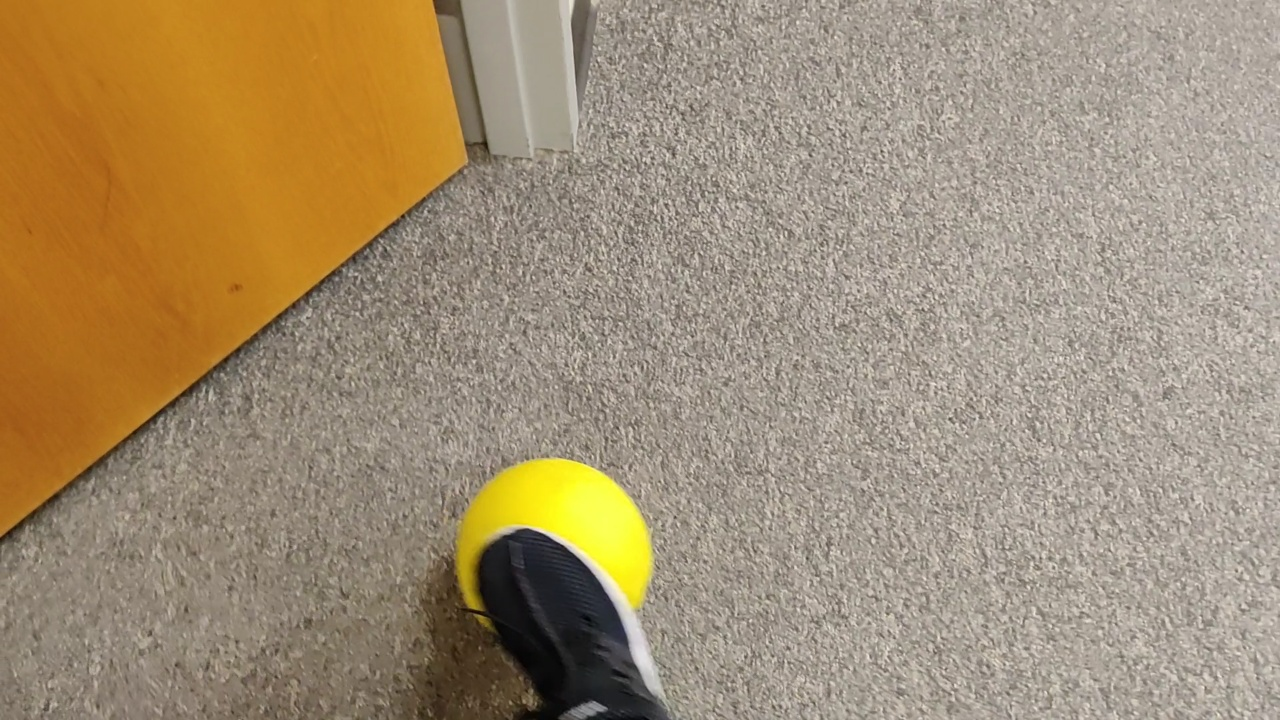Ball: (457, 461, 657, 634)
